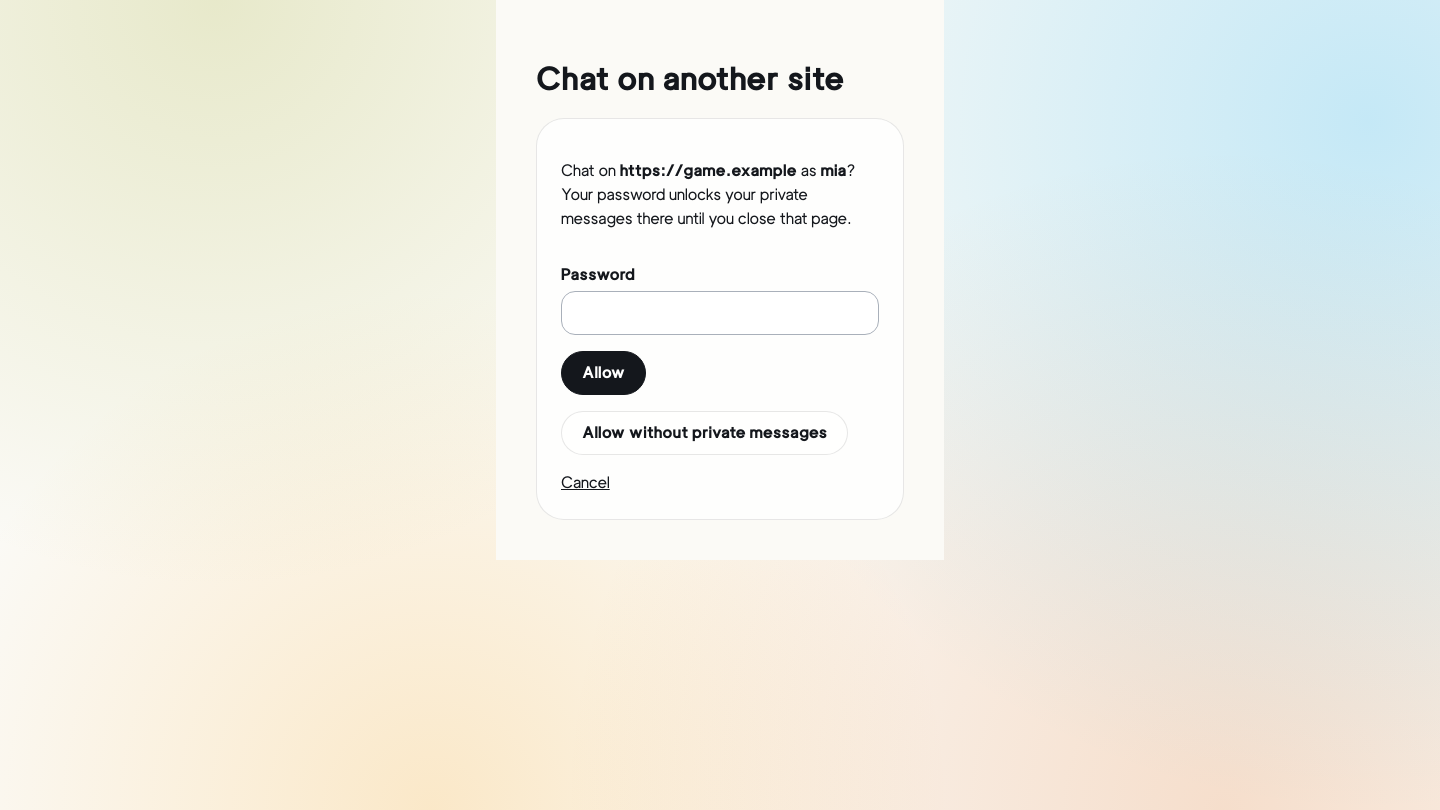
Test: an opener on another site gets nothing, and no token is asked for
Click the button "Allow without private messages": {"x": 705, "y": 433} [561,411,848,455]
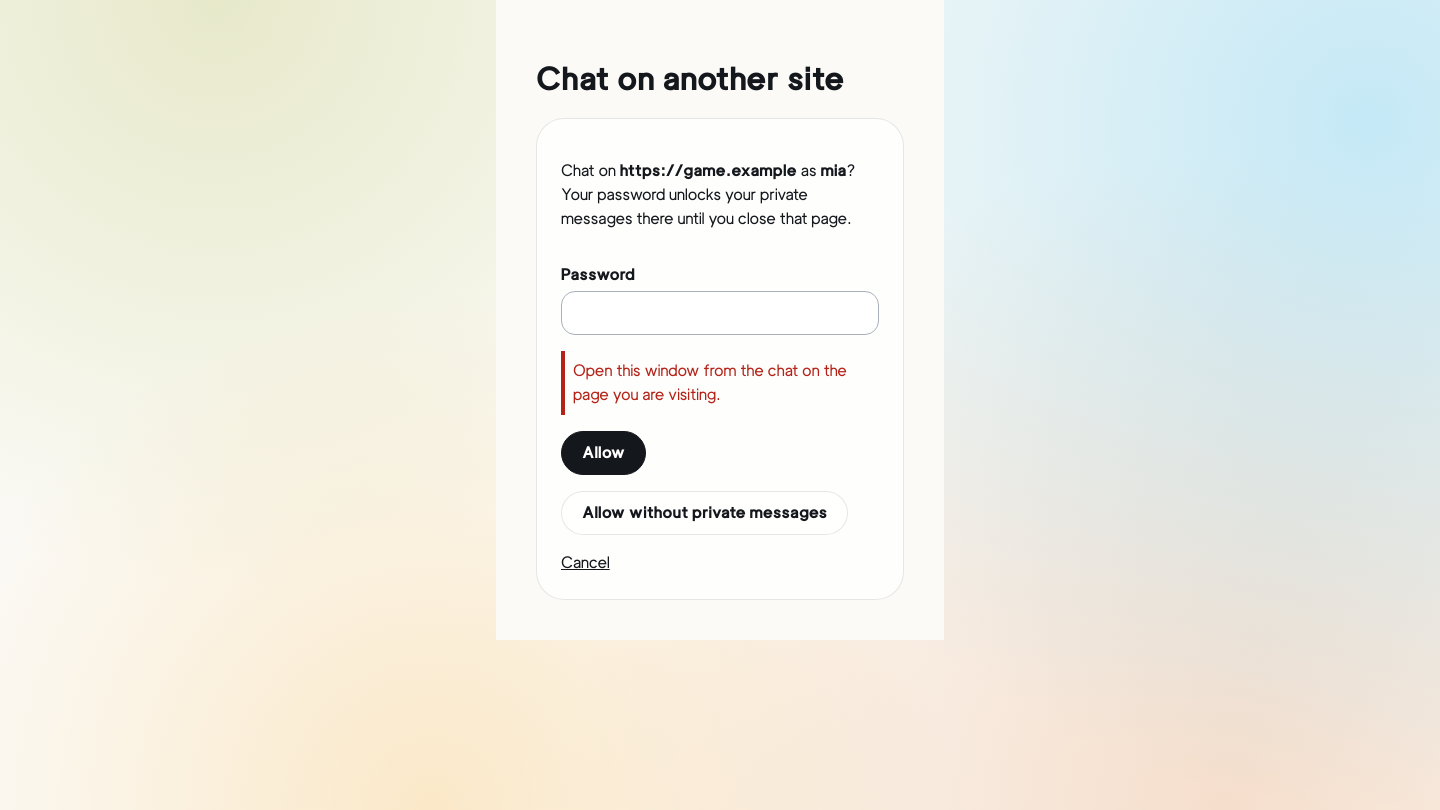
Expected: the message shows "from the chat on the page", [573,361,847,404]
